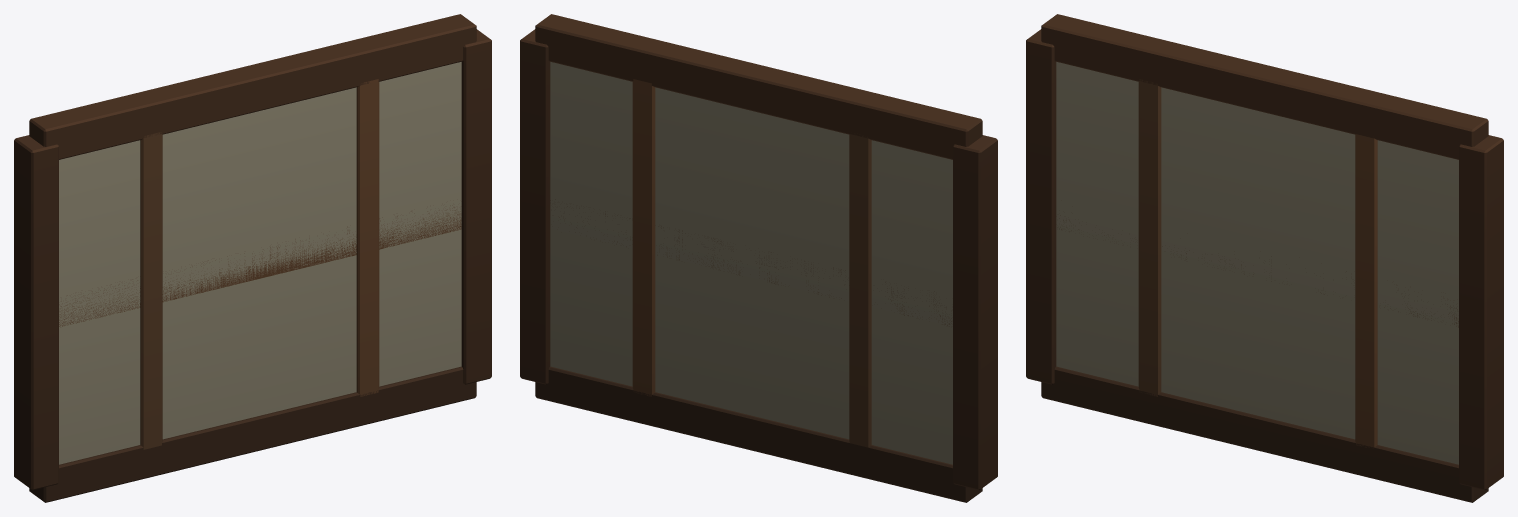
Rendered from piece_woodgable_rect.glb.
3 renders of one model, left to right at view 1: azimuth 30°, elevation 25°; view 2: azimuth 150°, elevation 25°; view 3: azimuth 330°, elevation 25°, orthographic.
Parts seen in each view (by area): view 1: Base; view 2: Base; view 3: Base.
Part boxes in pixels (box(x1,y1,x2,y2)): Base: box(14, 14, 491, 502); Base: box(520, 14, 997, 502); Base: box(1026, 14, 1503, 502).
Bounding box in the file's own units: 4.26 × 3.3 × 0.3.
